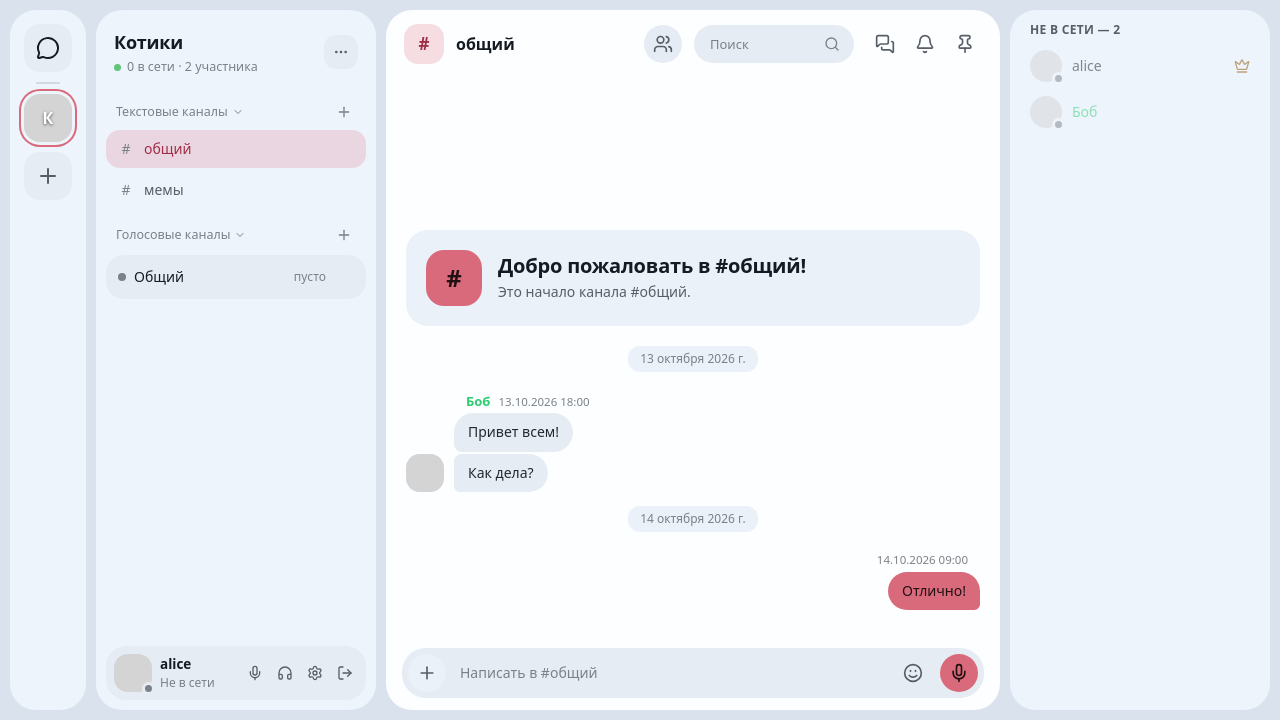
Test: slash commands › picks up commands a bot registered while the channel was open
expect the text "Как дела?" is shown: met, box [468,463,534,483]
Type "/r" into the text box named "Сообщение в #общий" at [670, 673], box [454,654,886,692]
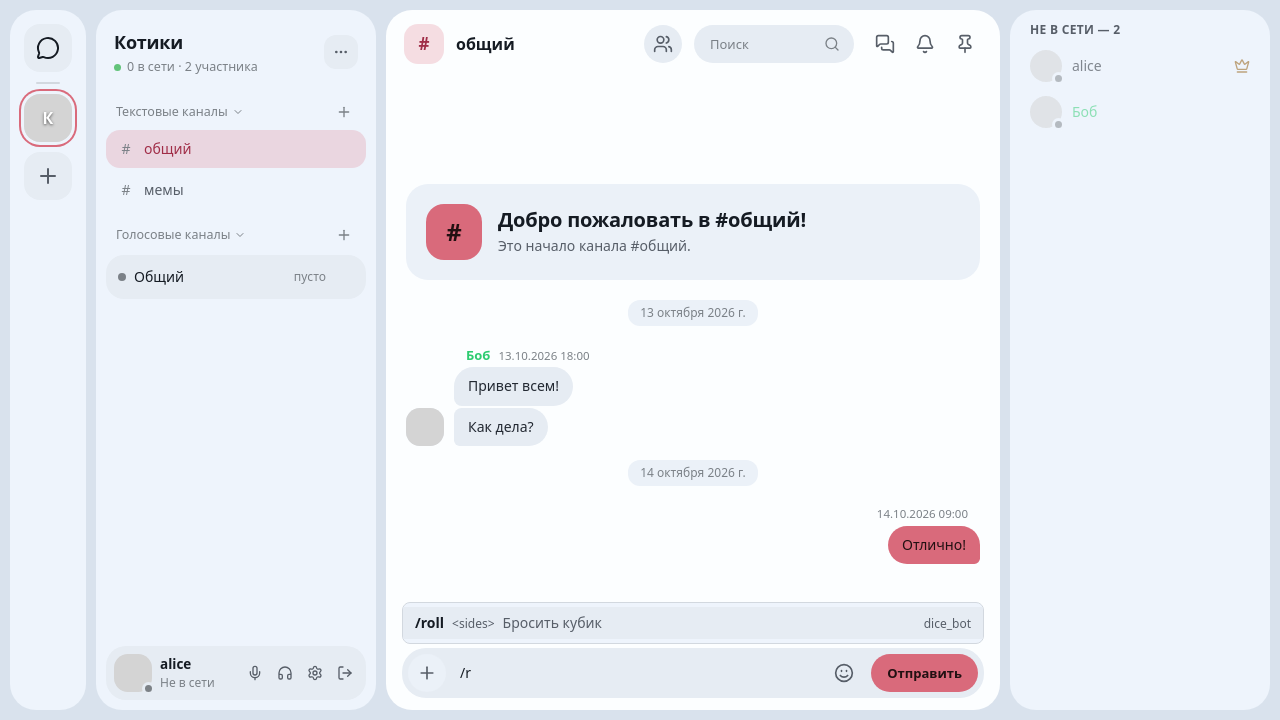
expect the option "/roll <sides> Бросить кубик dice_bot" is shown: met, box [403,607,983,639]
